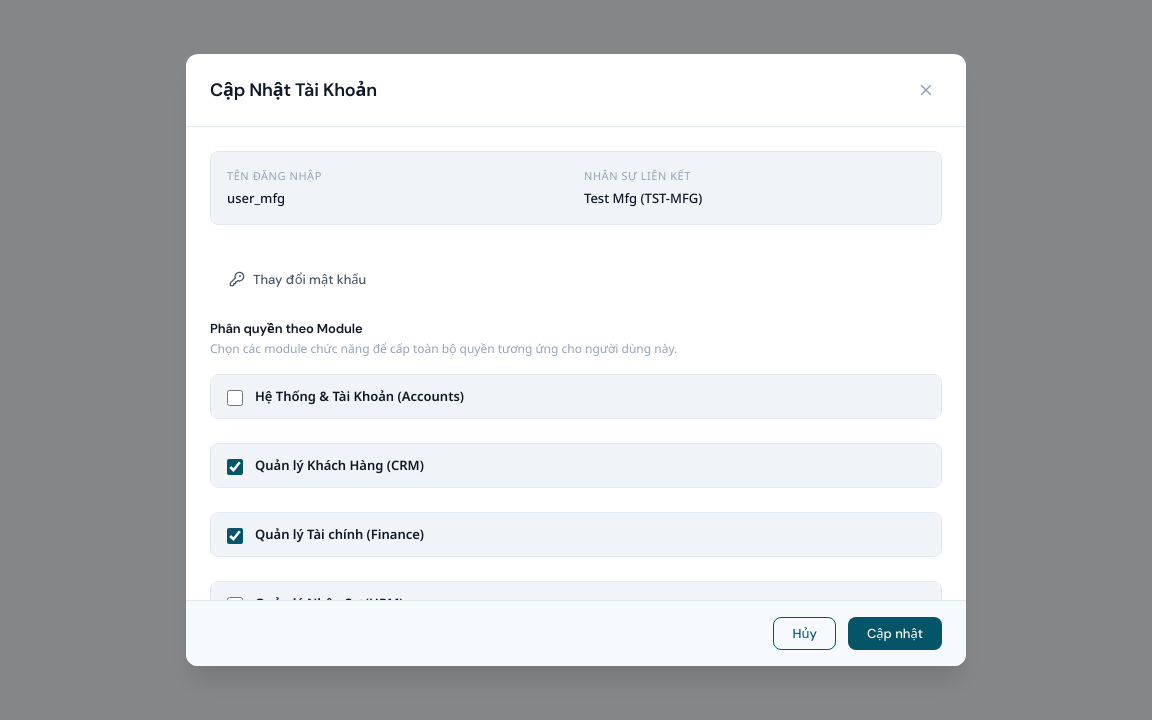
Test: AccountModal › opens change password sub-modal when clicking button in edit mode
Click the button "Thay đổi mật khẩu". click: [298, 279]
box: [210,261,385,297]
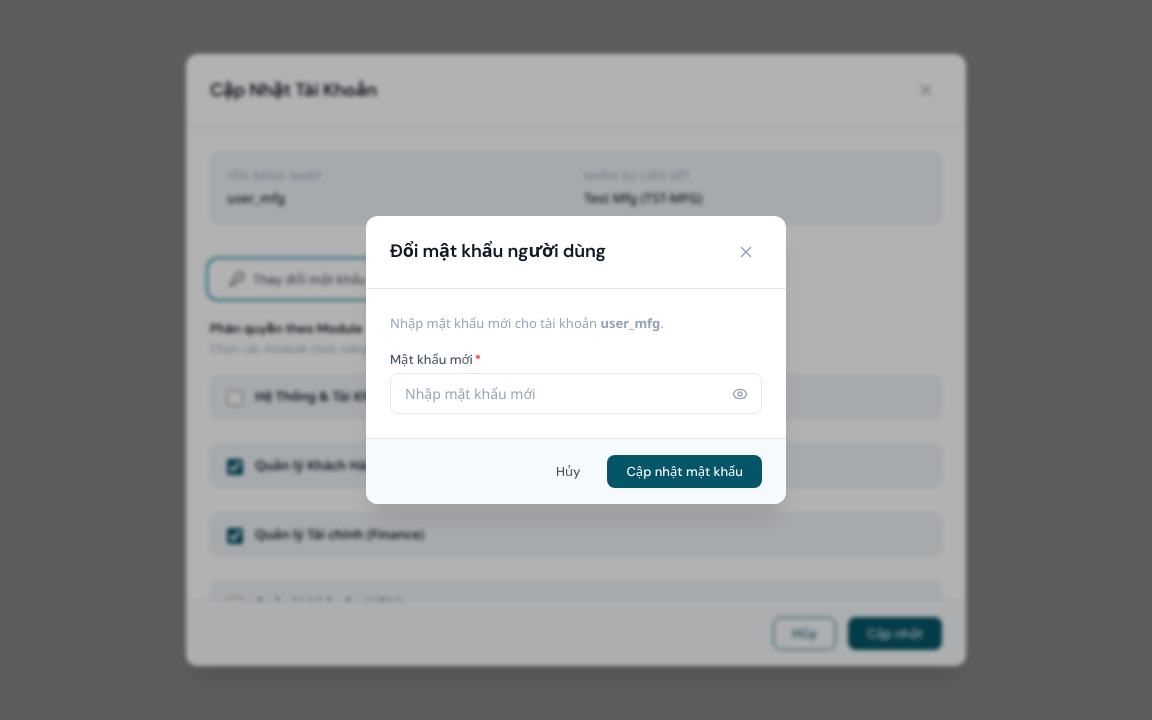
Expected: the dialog "Đổi mật khẩu người dùng" is shown
